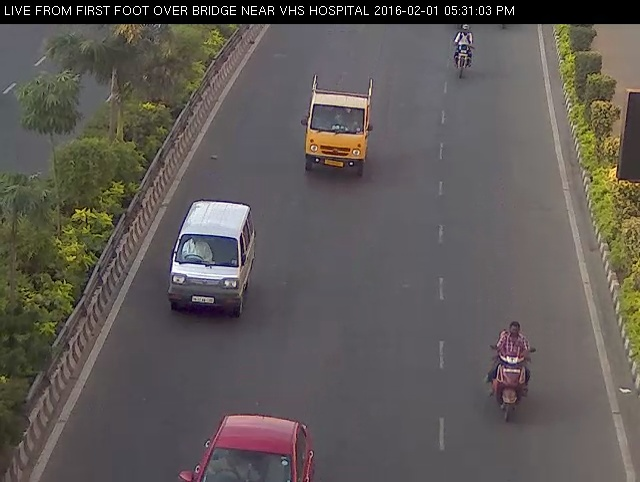Car: (155, 185, 262, 325), (165, 404, 324, 482), (296, 64, 380, 197)
Person: (481, 311, 541, 433), (442, 22, 487, 84)
